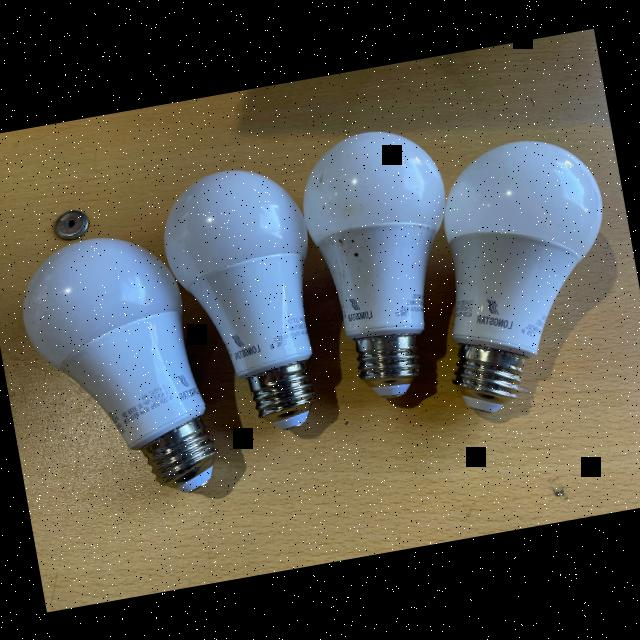light_bulb: (3, 185, 218, 531), (416, 122, 640, 433), (153, 138, 340, 463), (290, 120, 481, 420)
